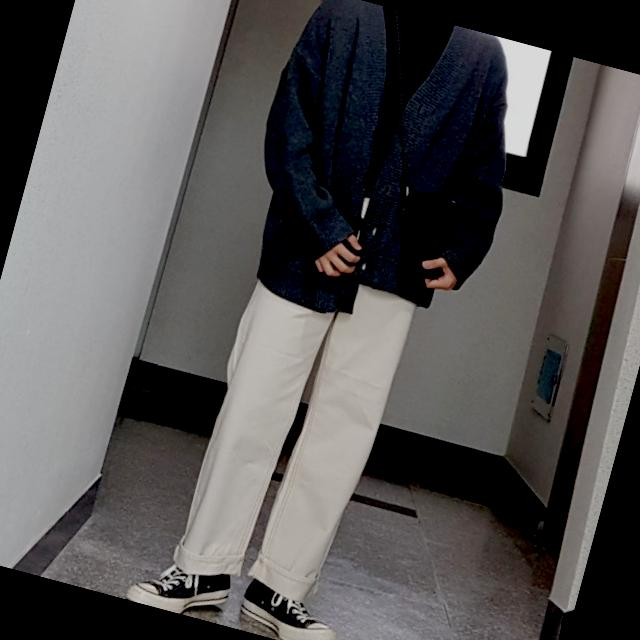cardigan: (219, 0, 544, 354)
cottonpants: (172, 257, 418, 611)
